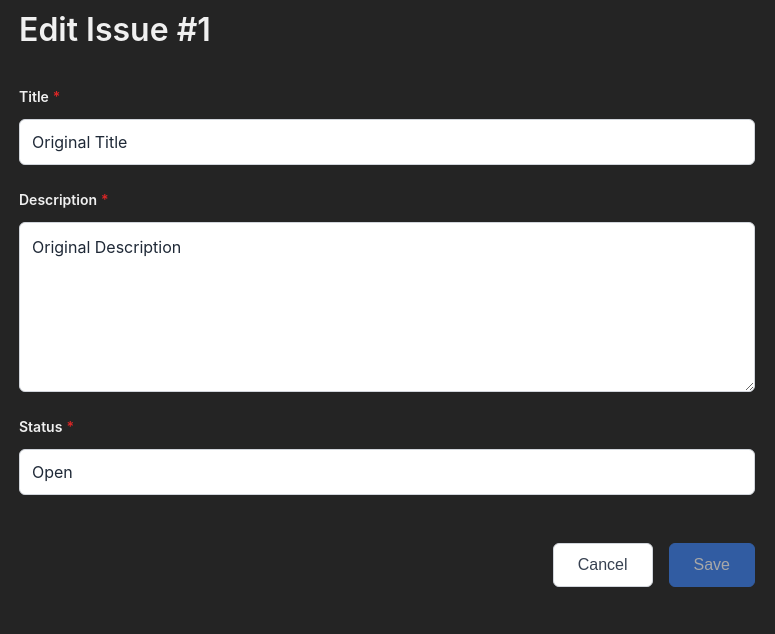
Test: EditIssuePage › validation errors › clears field errors when user fixes them
Note: Clear title and submit
Clear the field labelled "Title*": {"x": 387, "y": 142} x1=19 y1=119 x2=755 y2=165
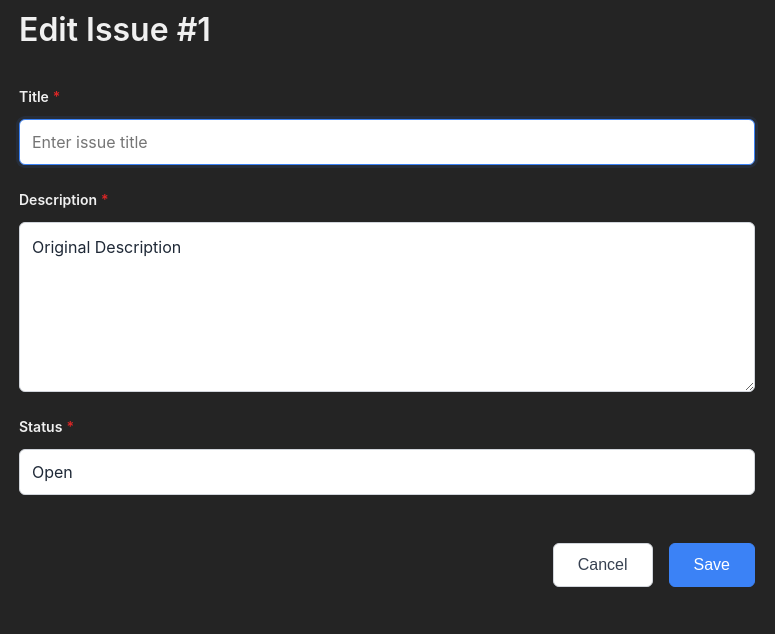
Click the button "Save": {"x": 712, "y": 565} x1=668 y1=543 x2=755 y2=587
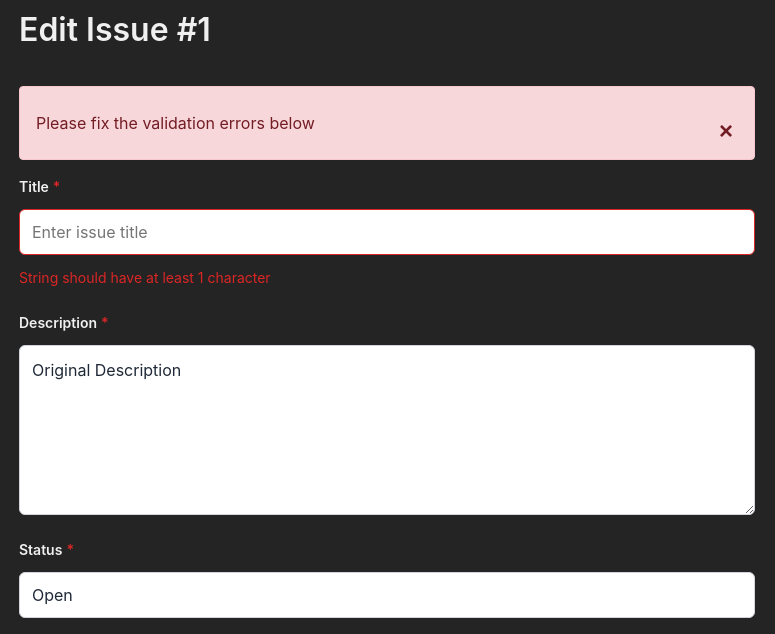
Expected: the text "String should have at least 1 character" is shown, x1=19 y1=269 x2=271 y2=286
Note: Fix the error by typing in the field
In the field labelled "Title*": {"x": 387, "y": 232} x1=19 y1=209 x2=755 y2=255, type "Fixed Title"
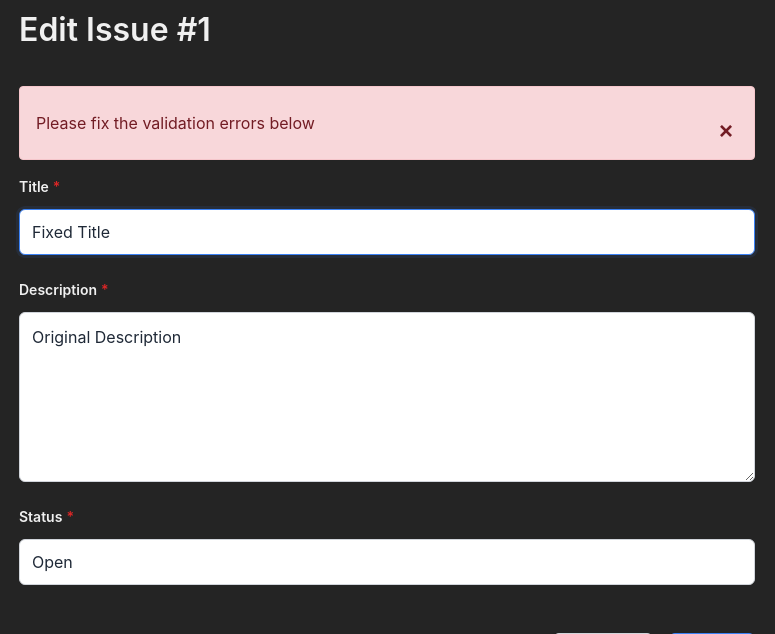
Expected: the text "String should have at least 1 character" is gone
